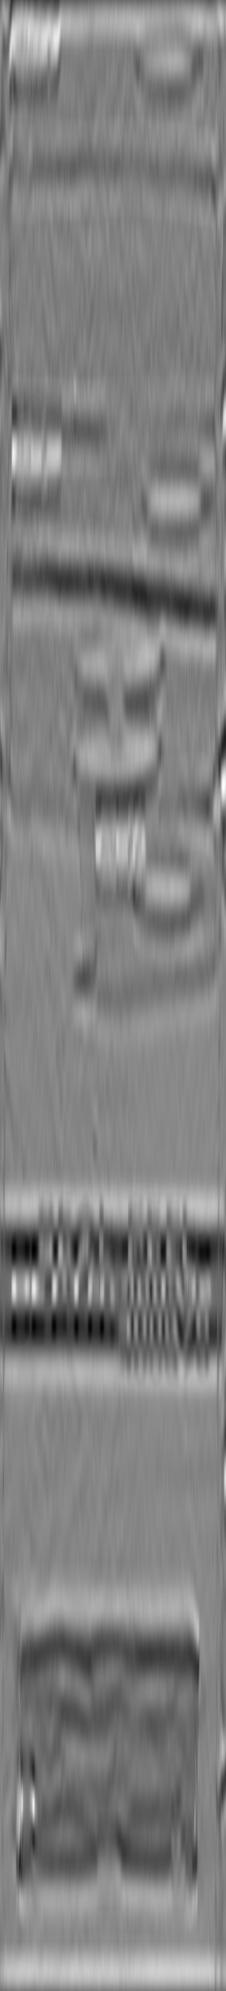hplug: (126, 851, 208, 929), (136, 458, 218, 535), (126, 22, 209, 97)
scal: (65, 609, 171, 706), (63, 706, 168, 797)
vplug: (18, 797, 102, 990), (25, 4, 102, 176), (48, 427, 116, 568)
